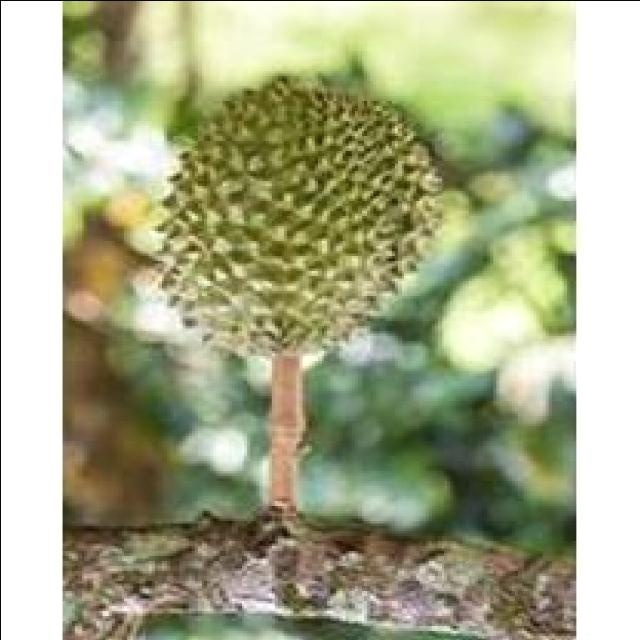agrume: (114, 65, 462, 385)
